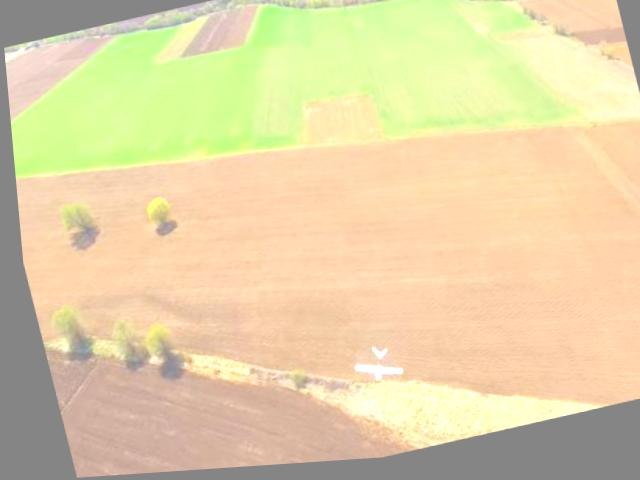uav: (337, 337, 404, 401)
